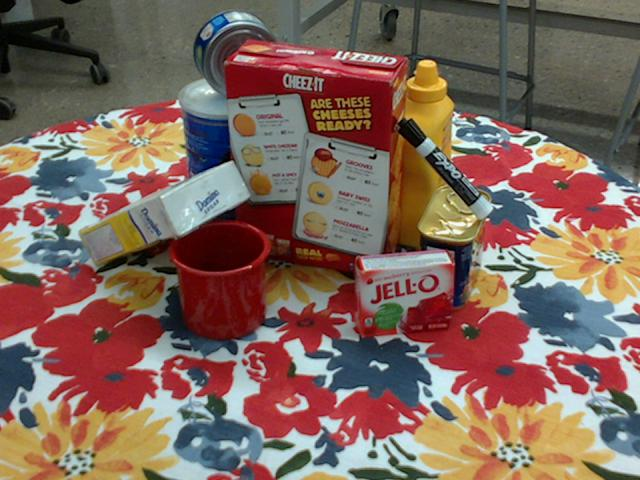cracker_box: (222, 41, 406, 277)
gelatin_box: (354, 249, 455, 338)
large_marker: (397, 118, 493, 219)
master_chef_can: (179, 75, 276, 231)
mug: (168, 219, 271, 340)
mustard_bottle: (393, 61, 454, 249)
potted_meat_can: (417, 185, 492, 310)
sugar_box: (75, 162, 249, 266)
tomato_soup_can: (332, 105, 393, 210)
tuna_fish_can: (191, 10, 277, 98)
